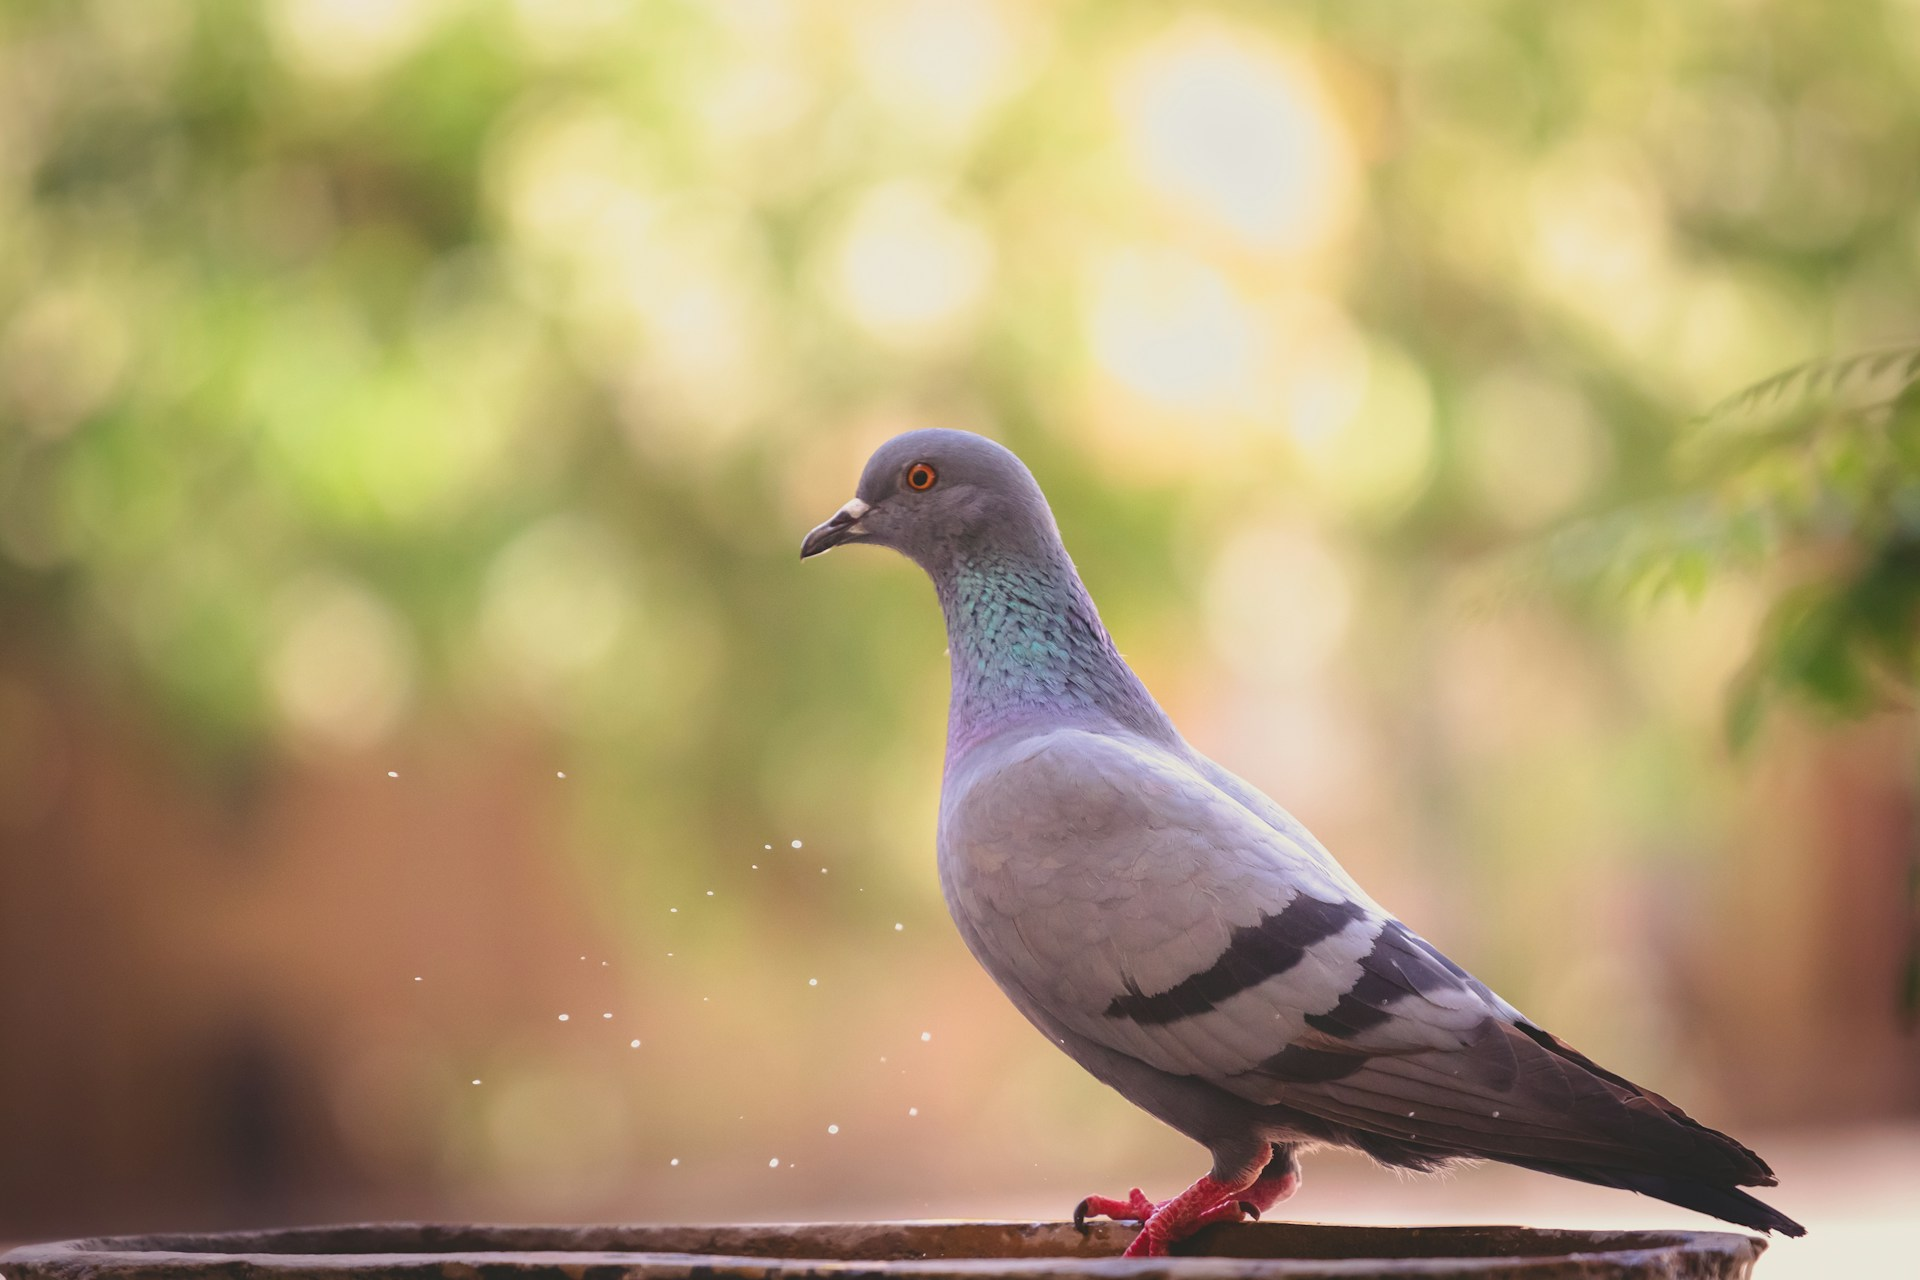pigeon: (789, 416, 1814, 1280)
